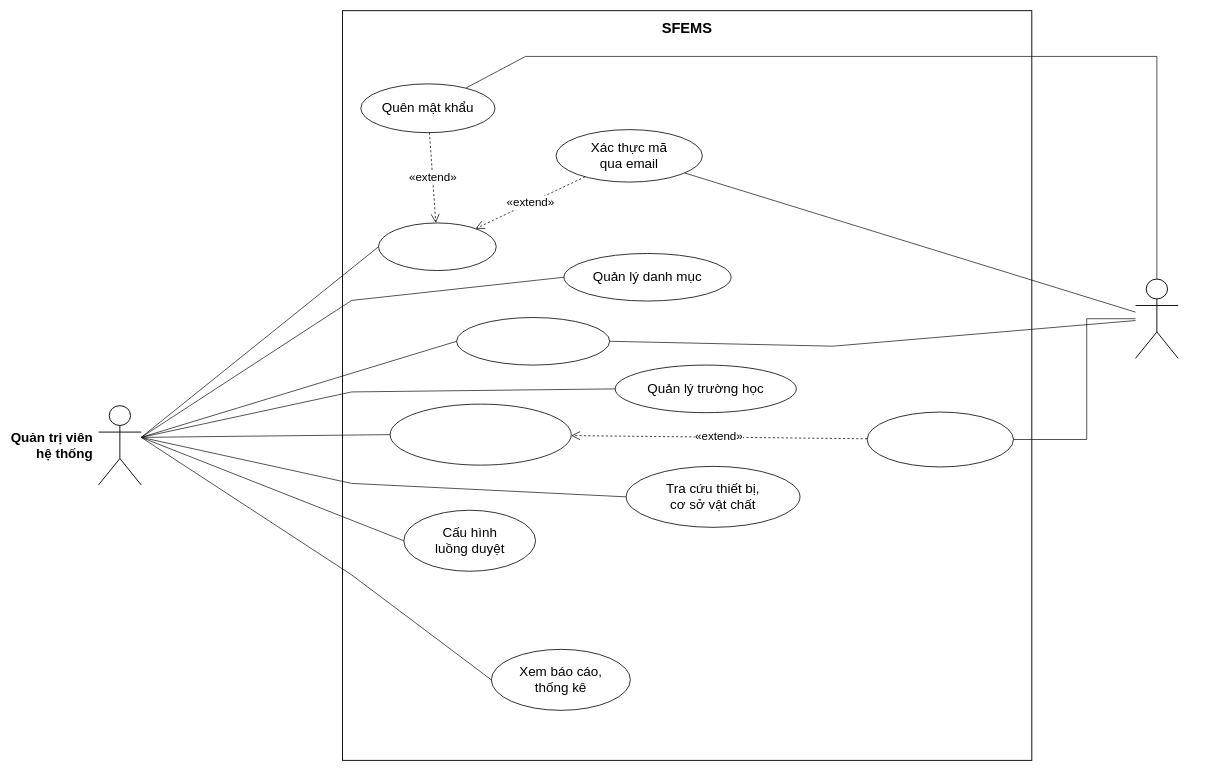
Some shapes in this 1207 by 772 pixel diagram are drawn without their labels. Each missing label, with the box of its shape:
Gửi thư mời đặt mật khẩu: (866, 411, 1014, 467)
Máy chủ thư (SMTP): (1135, 278, 1178, 359)
Nhận thông báo: (456, 317, 610, 365)
Quản lý tài khoản, phân quyền: (389, 403, 571, 465)
Đăng nhập: (378, 222, 496, 271)
